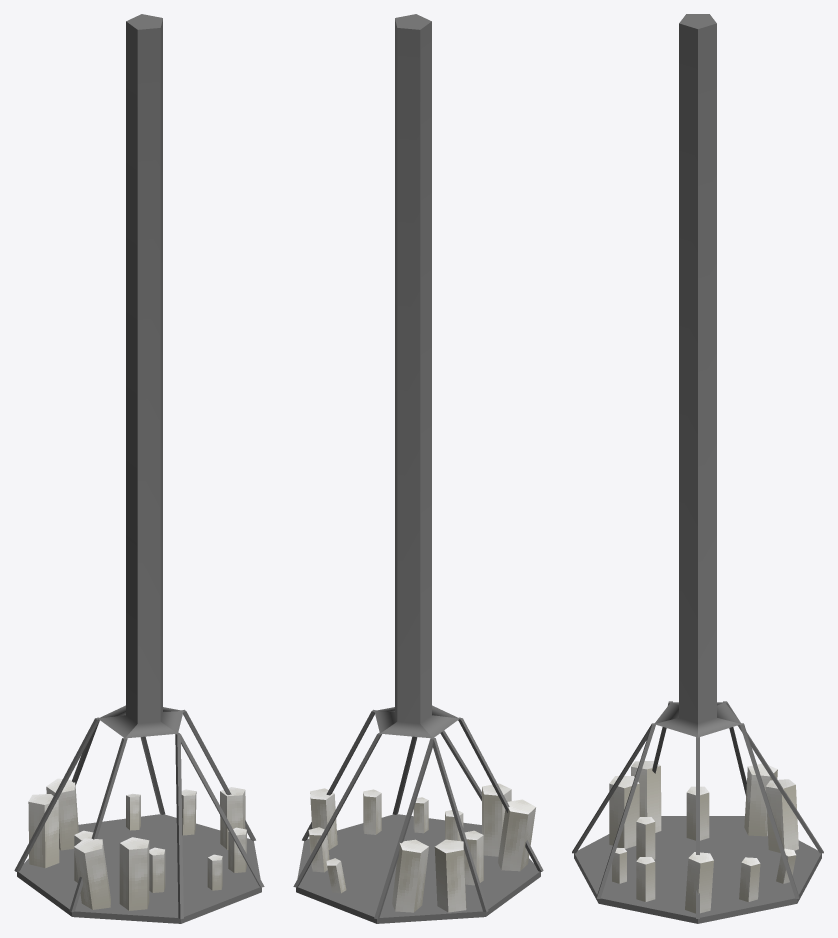
File: Chandelier1.fbx
3 renders of one model, left to right at view 1: azimuth 30°, elevation 25°; view 2: azimuth 150°, elevation 25°; view 3: azimuth 270°, elevation 25°, orthographic.
Parts seen in each view (by area): view 1: polySurface1, candle9, candle3, candle8, candle7, candle1, candle4, candle10, candle11, candle5, candle6; view 2: polySurface1, candle7, candle8, candle3, candle9, candle1, candle10, candle2, candle11, candle5; view 3: polySurface1, candle7, candle9, candle8, candle1, candle3, candle2, candle10, candle11, candle4.
Boxes of the visible parts, x1,y1,x2,y2 form: polySurface1: (14, 14, 264, 923); candle9: (119, 837, 149, 910); candle3: (74, 838, 110, 909); candle8: (28, 794, 59, 868); candle7: (46, 778, 78, 850); candle1: (220, 787, 245, 849); candle4: (149, 847, 165, 892); candle10: (228, 827, 246, 872); candle11: (181, 789, 196, 835); candle5: (207, 854, 222, 890); candle6: (126, 793, 140, 830); polySurface1: (293, 14, 543, 923); candle7: (392, 839, 428, 912); candle8: (434, 839, 466, 912); candle3: (498, 799, 536, 871); candle9: (482, 783, 511, 856); candle1: (310, 788, 337, 849); candle10: (363, 789, 381, 834); candle2: (463, 830, 483, 885); candle11: (308, 827, 329, 872); candle5: (413, 797, 428, 833); polySurface1: (572, 14, 823, 923); candle7: (765, 779, 798, 852); candle9: (609, 776, 639, 848); candle8: (744, 763, 777, 836); candle1: (685, 852, 713, 913); candle3: (631, 761, 661, 832); candle2: (686, 786, 709, 840); candle10: (636, 857, 655, 901); candle11: (739, 857, 760, 901); candle4: (636, 817, 655, 859).
Bounding box in the file's own units: 0.0308 × 0.1178 × 0.0316.
2 materials, 1 textured.
